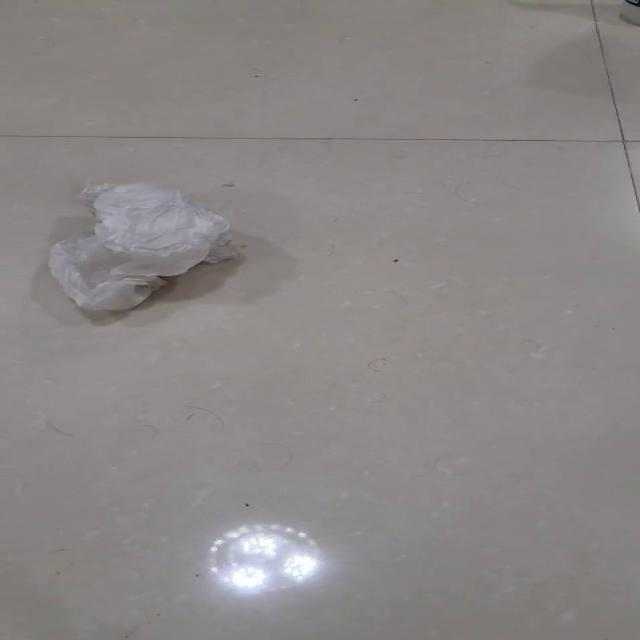plastic: (46, 180, 236, 311)
